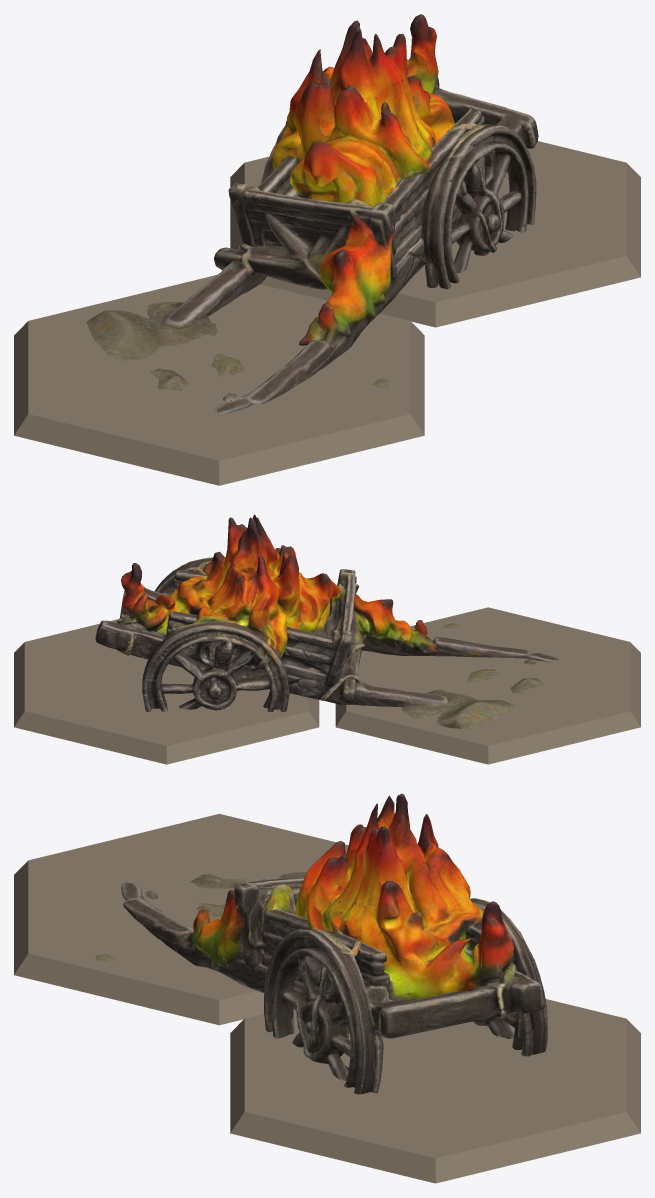
The model's file is fiamme.glb.
The picture shows the model from 3 angles, top to bottom: view 1: azimuth 30°, elevation 25°; view 2: azimuth 150°, elevation 25°; view 3: azimuth 270°, elevation 25°; orthographic projection. The views are drawn at different scales.
Parts seen in each view (by area): view 1: Mesh_0; view 2: Mesh_0; view 3: Mesh_0.
Boxes of the visible parts, <box> form: Mesh_0: <box>14,14,640,485</box>; Mesh_0: <box>14,514,640,764</box>; Mesh_0: <box>14,793,640,1183</box>.
Bounding box in the file's own units: 3.4 × 1.07 × 2.51.
Materials: 2 (1 with a texture image).
